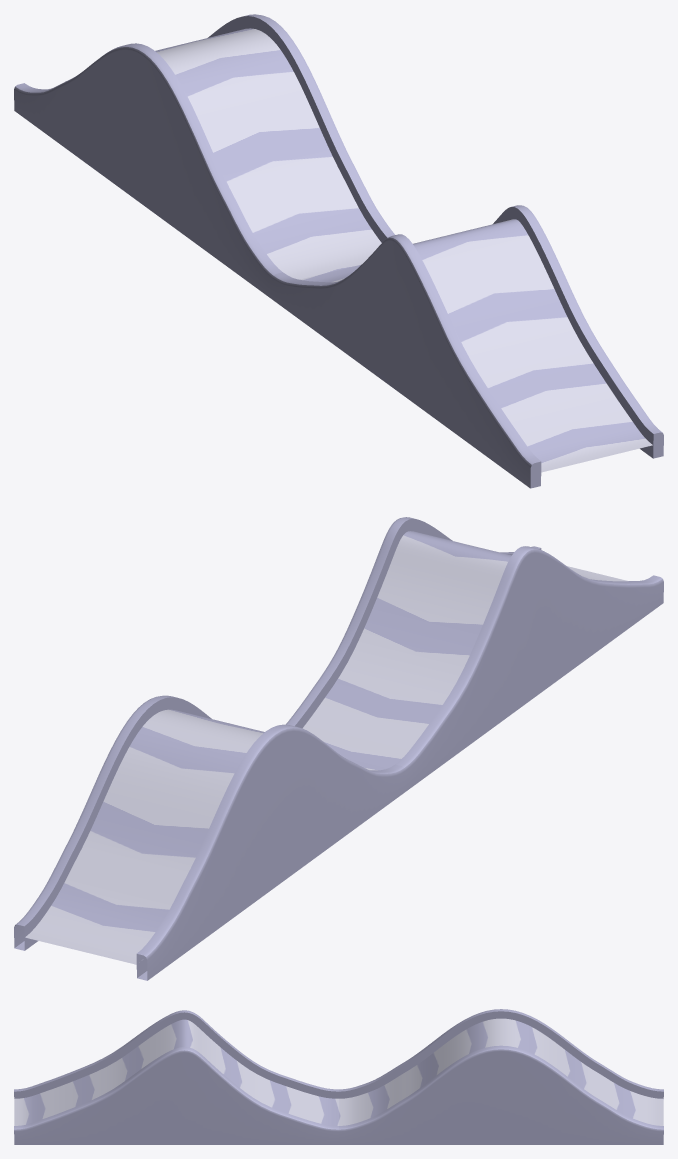
The model's file is platform_hard_soft.fbx.
3 views of the same model, one above another, from view 1: azimuth 30°, elevation 25°; view 2: azimuth 150°, elevation 25°; view 3: azimuth 270°, elevation 25° (orthographic). The views are drawn at different scales.
Visible parts, largest first — view 1: platform_hard_soft; view 2: platform_hard_soft; view 3: platform_hard_soft.
Part boxes in pixels (left/top/right/bottom): platform_hard_soft: left=14, top=14, right=663, bottom=488; platform_hard_soft: left=14, top=517, right=663, bottom=980; platform_hard_soft: left=14, top=1009, right=663, bottom=1144.
Size of the model in its own units: 6872 by 7527 by 46200.
Materials: 1 (1 with a texture image).
